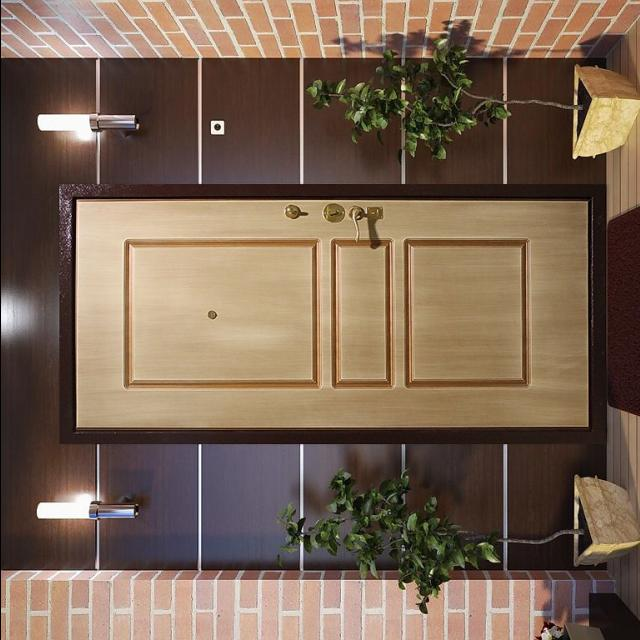close: (74, 191, 588, 430)
